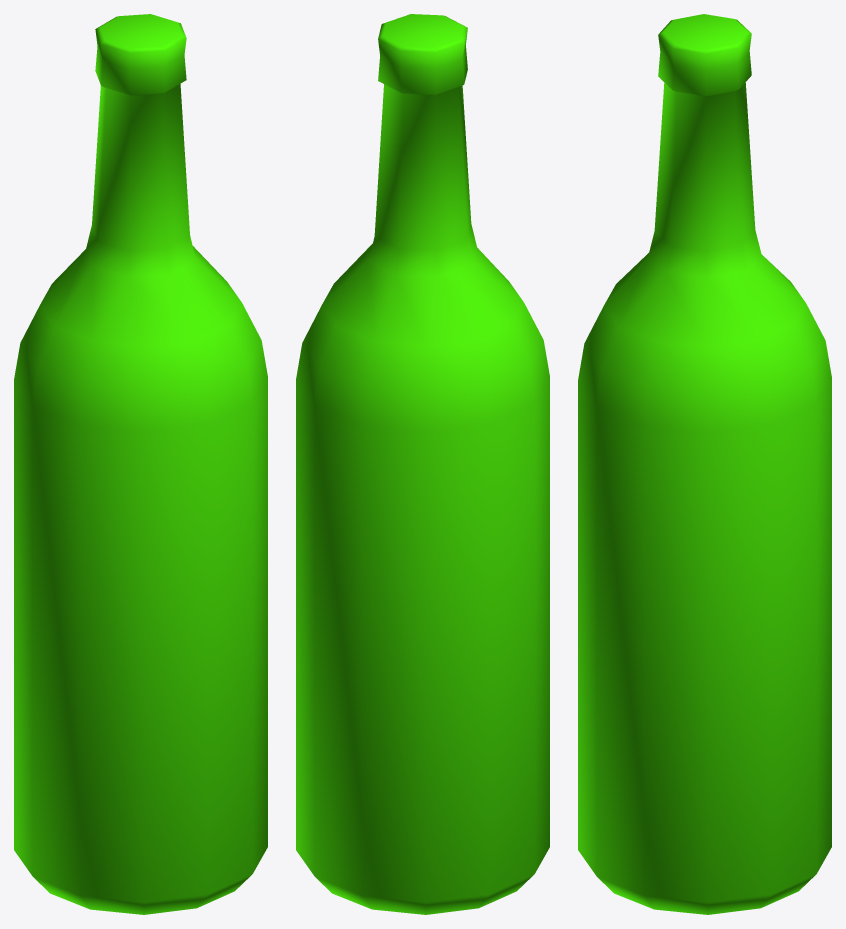
File: 20_pernod.gltf
3 renders of one model, left to right at view 1: azimuth 30°, elevation 25°; view 2: azimuth 150°, elevation 25°; view 3: azimuth 270°, elevation 25°, orthographic.
Parts seen in each view (by area): view 1: Pernod_Atlas_0; view 2: Pernod_Atlas_0; view 3: Pernod_Atlas_0.
Boxes of the visible parts, <box> form: Pernod_Atlas_0: <box>14,14,267,914</box>; Pernod_Atlas_0: <box>296,14,549,914</box>; Pernod_Atlas_0: <box>578,14,831,914</box>.
Bounding box in the file's own units: 7.74 × 28.23 × 7.74.
1 material, 1 textured.
